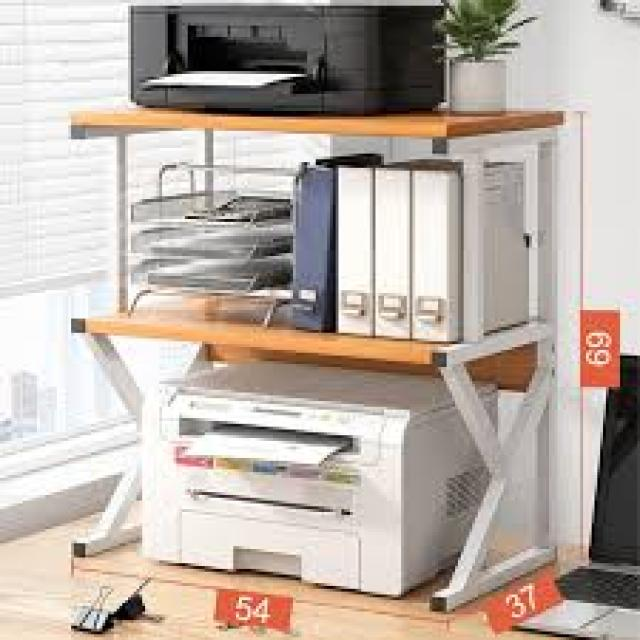printer: (137, 347, 500, 597), (125, 0, 447, 114)
